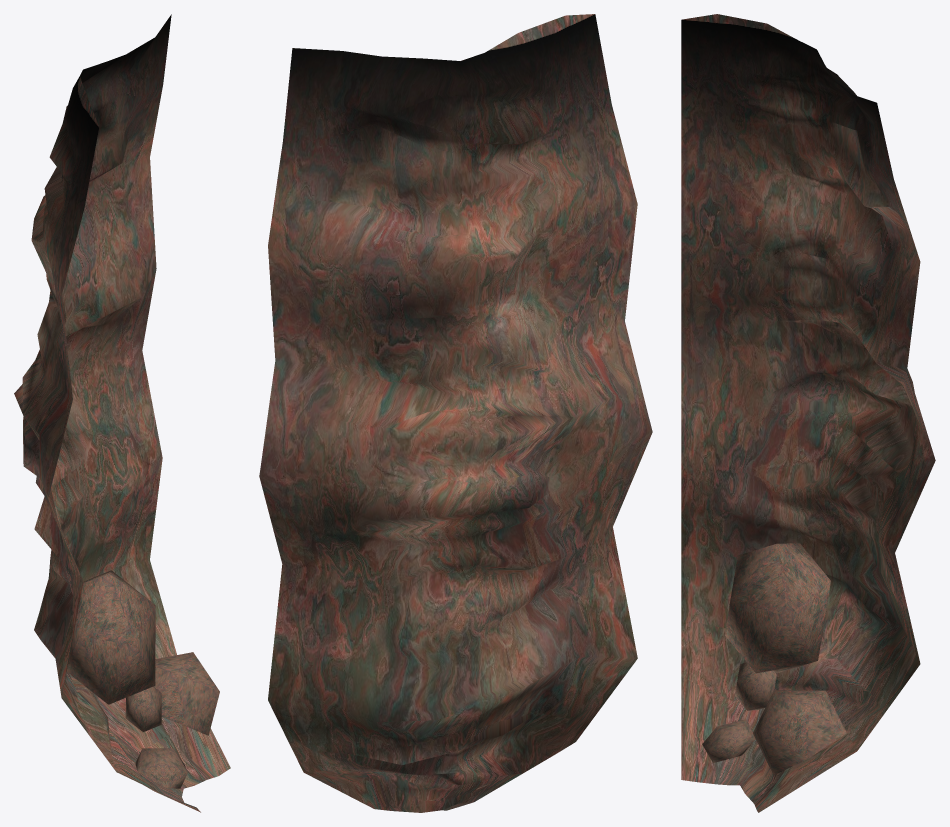
Rendered from cave_walls_concave2.glb.
The picture shows the model from 3 angles, left to right: view 1: azimuth 30°, elevation 25°; view 2: azimuth 150°, elevation 25°; view 3: azimuth 270°, elevation 25°; orthographic projection. The views are drawn at different scales.
Parts seen in each view (by area): view 1: cave_concave2-col; view 2: cave_concave2-col; view 3: cave_concave2-col.
Boxes of the visible parts, x1,y1,x2,y2 form: cave_concave2-col: [14, 14, 230, 812]; cave_concave2-col: [259, 14, 652, 812]; cave_concave2-col: [681, 14, 935, 812].
Size of the model in its own units: 1.36 by 4.12 by 1.31.
2 materials, 2 textured.
